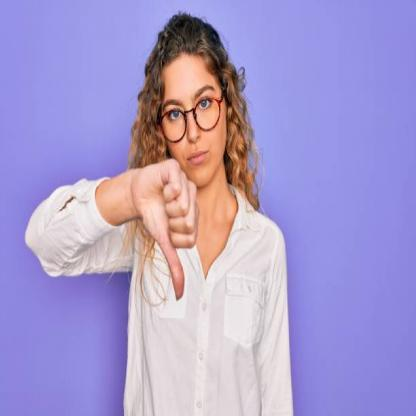thumb_down: (136, 154, 201, 304)
